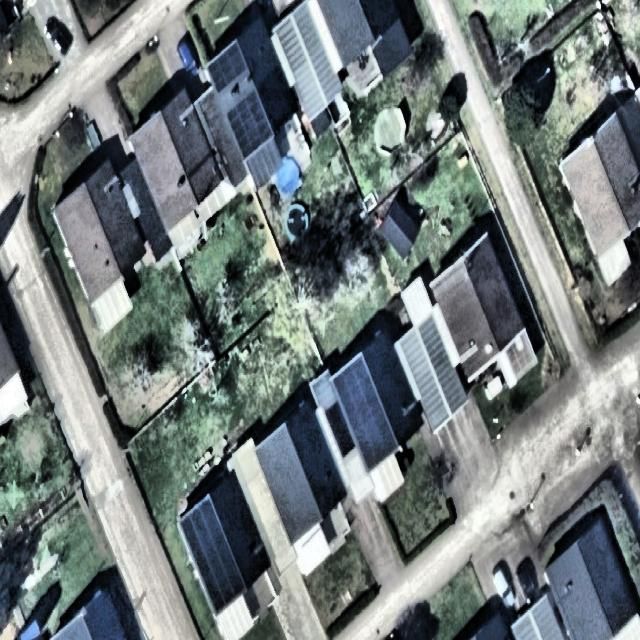roof_pv: (192, 553, 246, 617), (345, 411, 398, 475), (225, 90, 274, 158), (177, 497, 232, 554), (333, 356, 384, 410), (208, 40, 247, 92)
